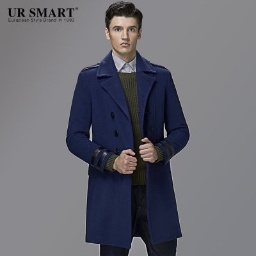face: (103, 1, 144, 56)
